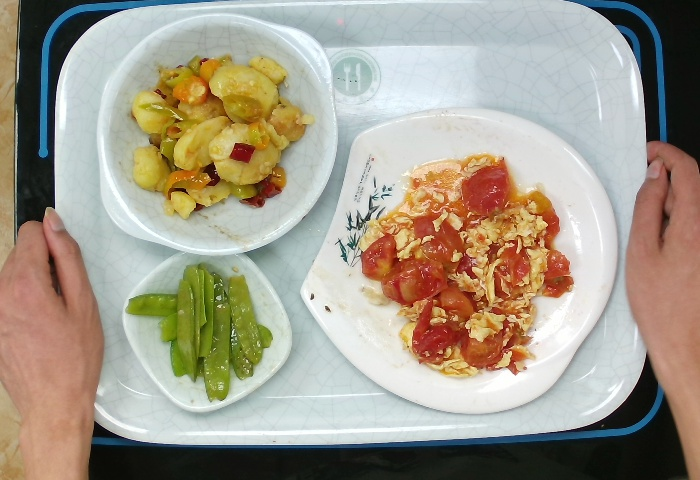JYsf-Mian_Pan: (295, 102, 623, 421)
JYsf-Shuang_Er_Wan: (92, 8, 342, 262)
JYsf-Si_Fang_Die: (117, 247, 294, 418)
